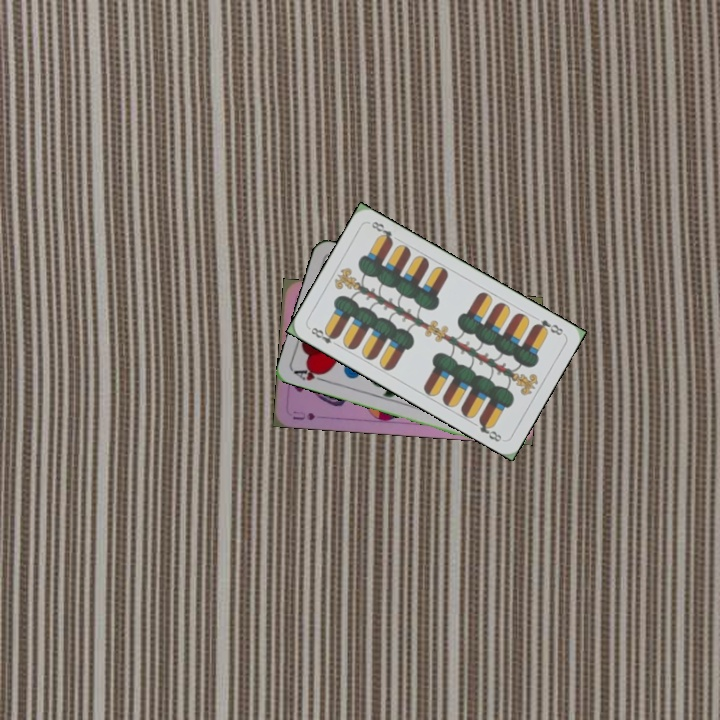E8: (307, 323, 342, 349), (529, 316, 566, 338)
HA: (291, 364, 331, 385)
SU: (289, 407, 318, 423)
